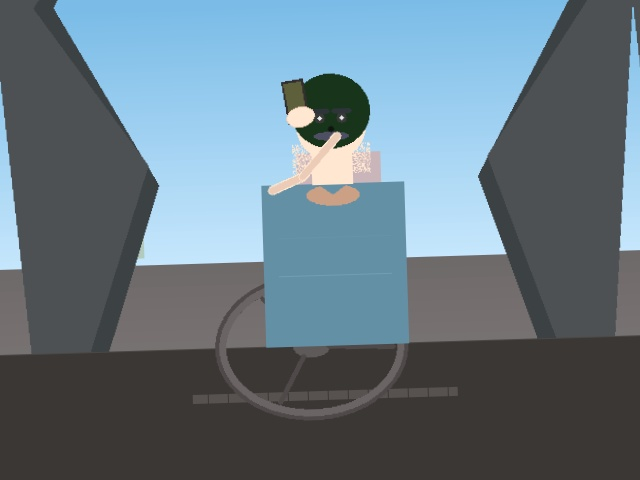phone_usage: (281, 72, 318, 131)
